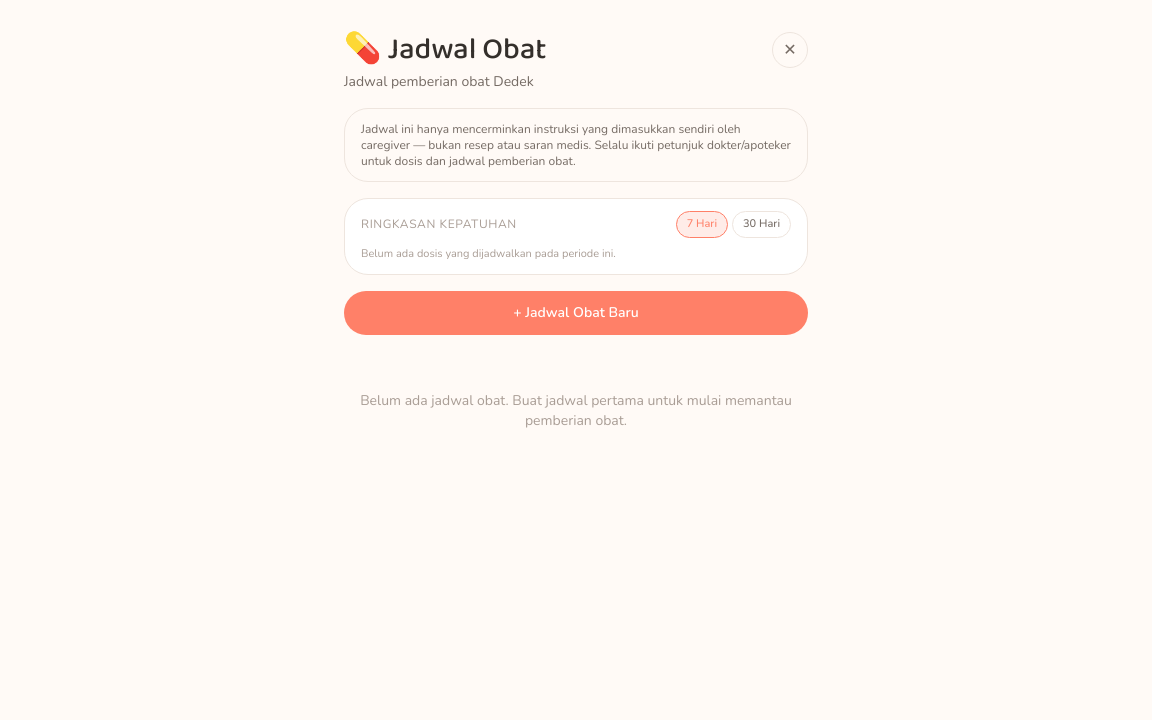
Test: MedicationScheduleScreen — schedule form validation › adding a time beyond the daily maximum is not possible via the UI
The image size is (1152, 720).
Click the button "+ Jadwal Obat Baru". click: (576, 313)
box: [344,291,808,335]
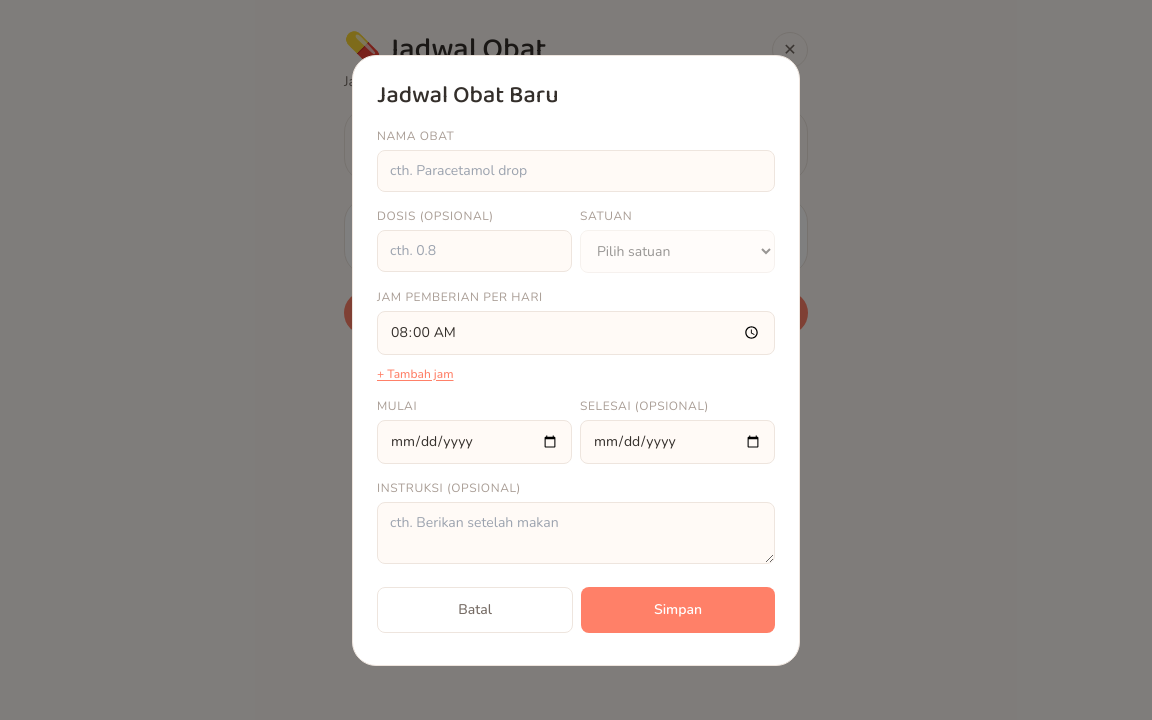
Click the button "+ Tambah jam". click: (415, 374)
box: [377,366,454,382]
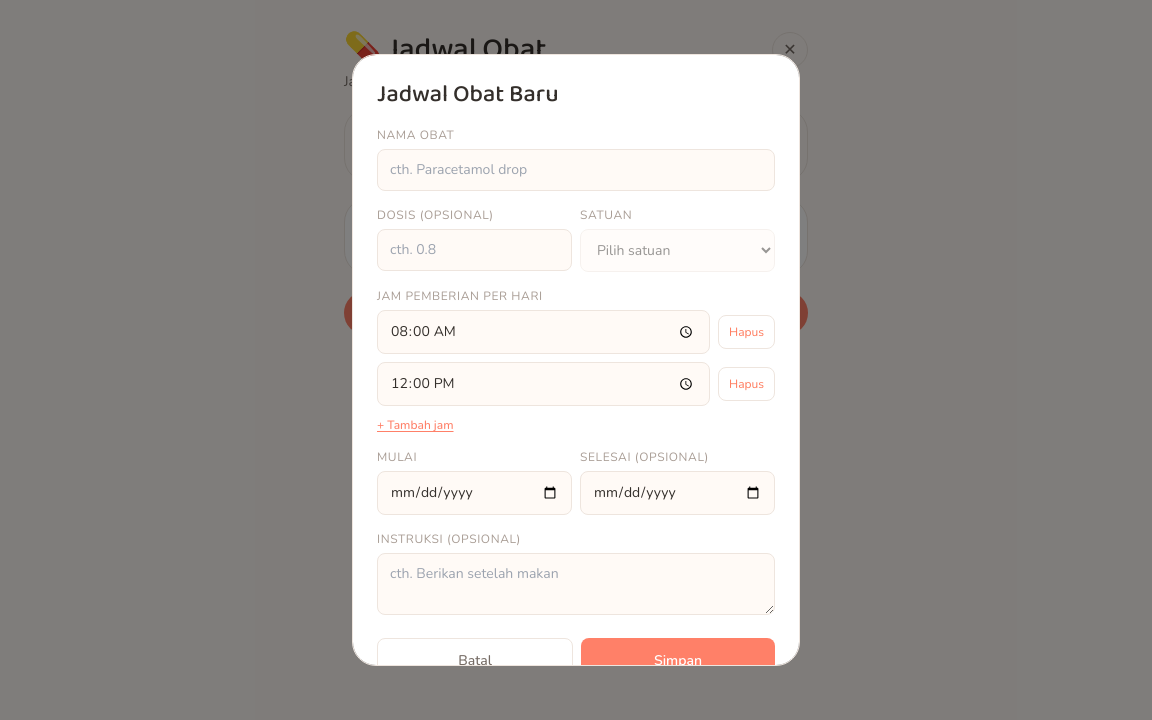
Click the button "+ Tambah jam". click: (415, 425)
box: [377,417,454,433]
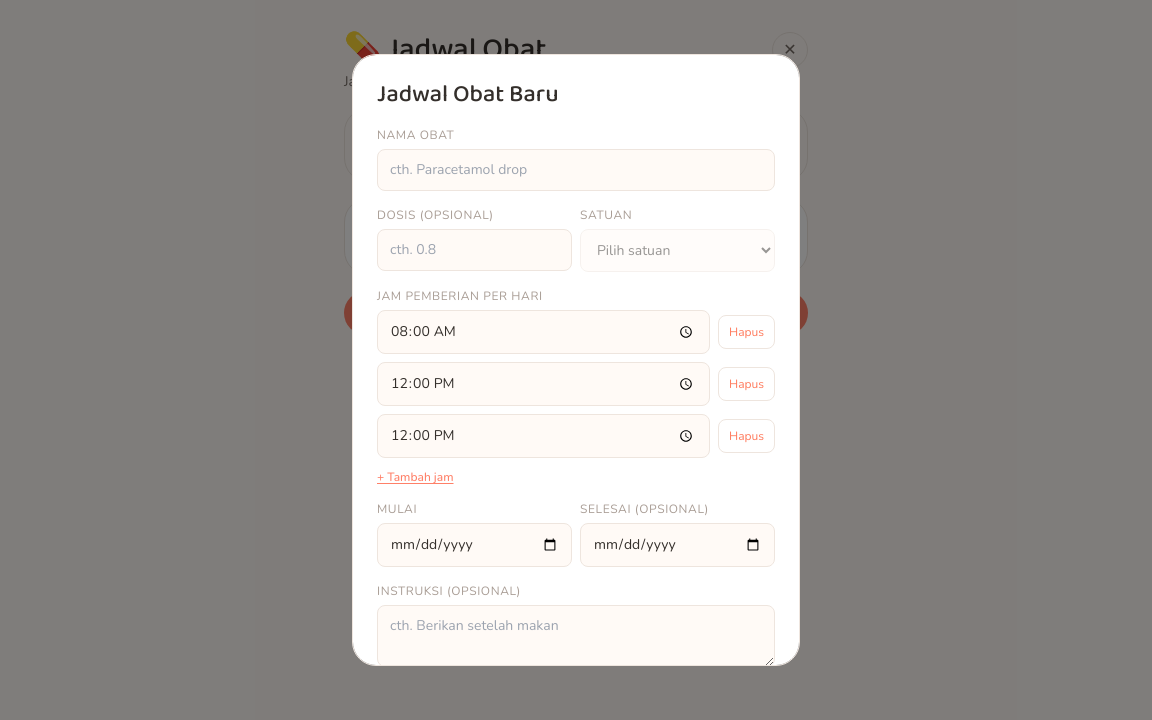
Click the button "+ Tambah jam". click: (415, 477)
box: [377,469,454,485]
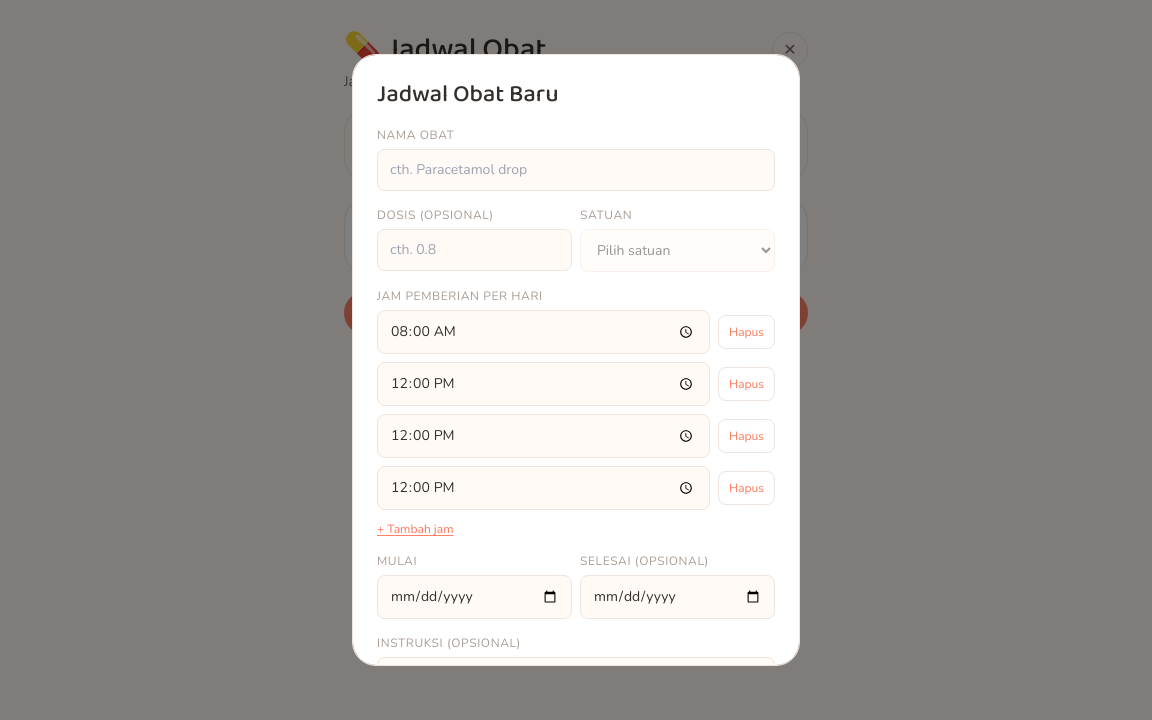
Click the button "+ Tambah jam". click: (415, 529)
box: [377,521,454,537]
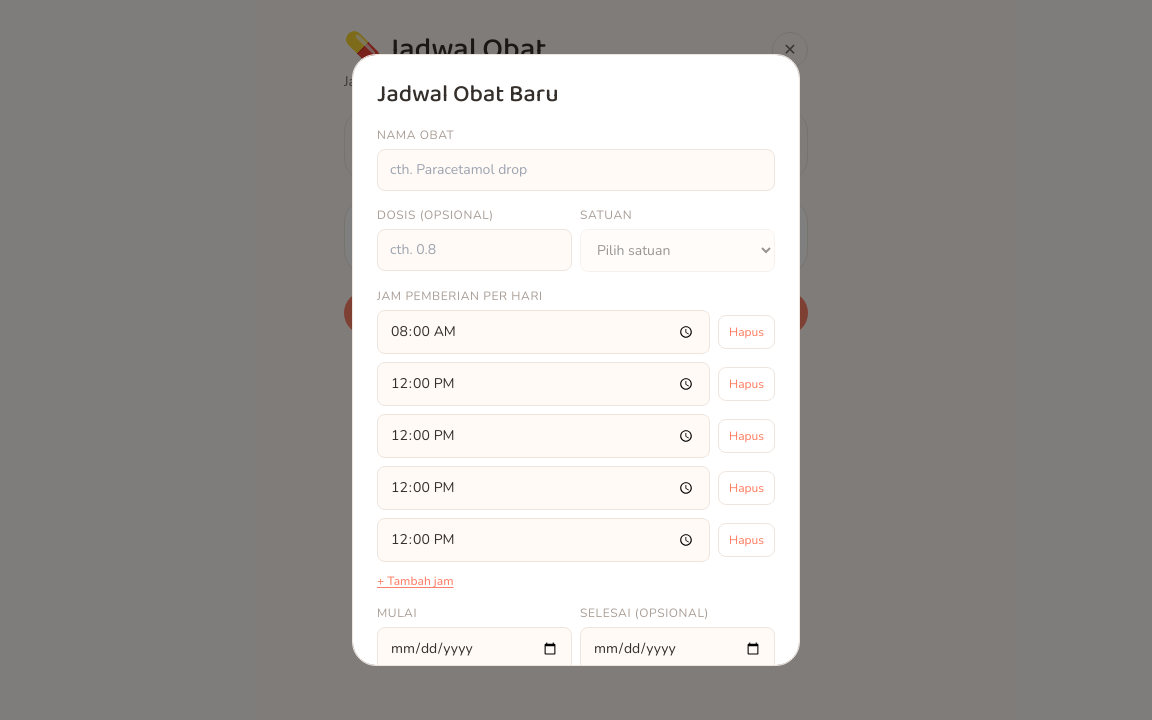
Click the button "+ Tambah jam". click: (415, 581)
box: [377,573,454,589]
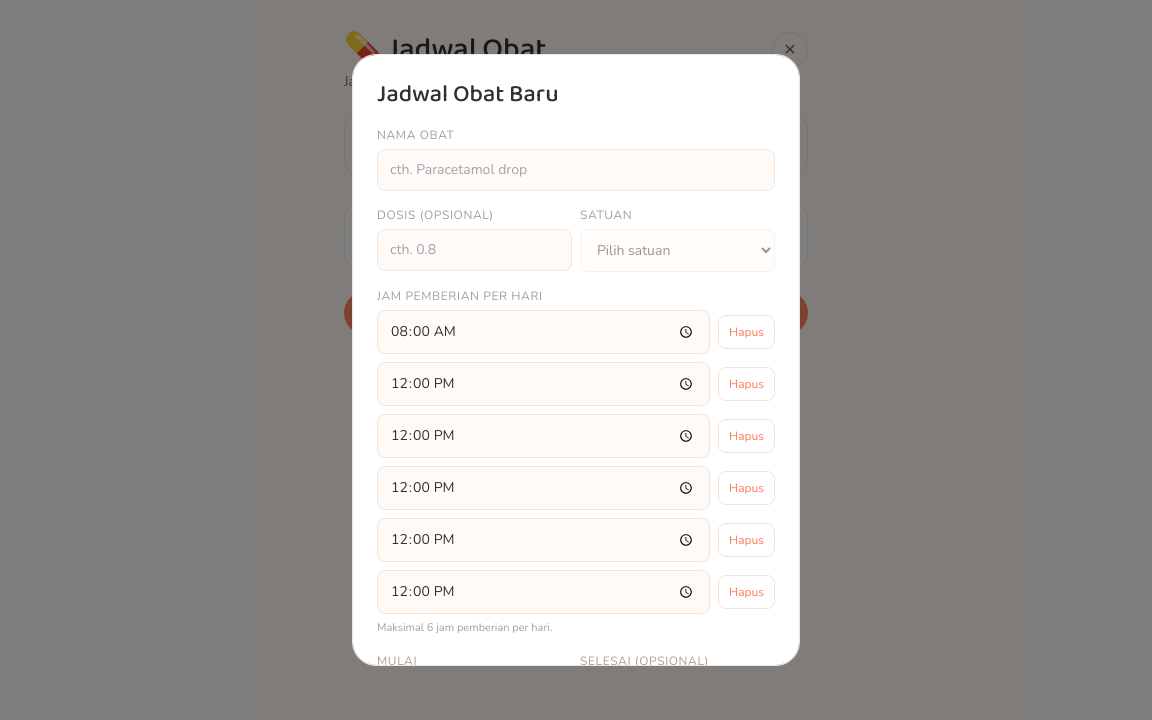
Expected: the button "+ Tambah jam" is gone
Expected: the text "Maksimal 6 jam pemberian per hari." is shown, [377,620,552,635]
